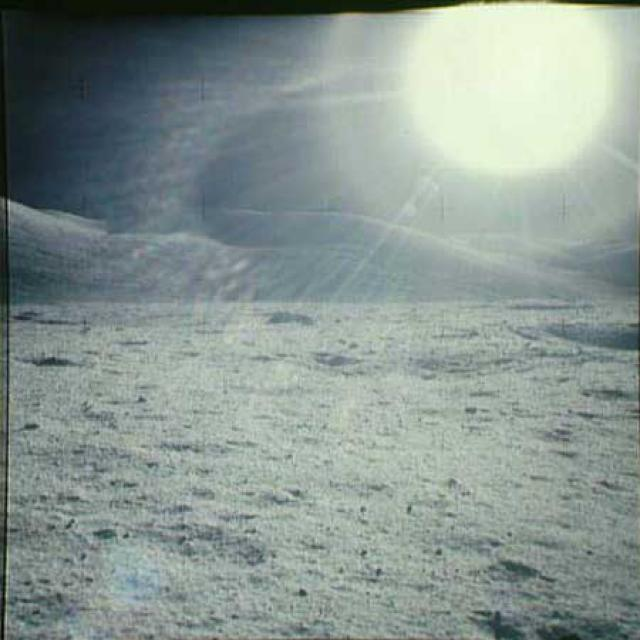crater: (508, 309, 638, 357), (195, 308, 312, 330), (16, 350, 78, 372), (300, 347, 356, 369)
